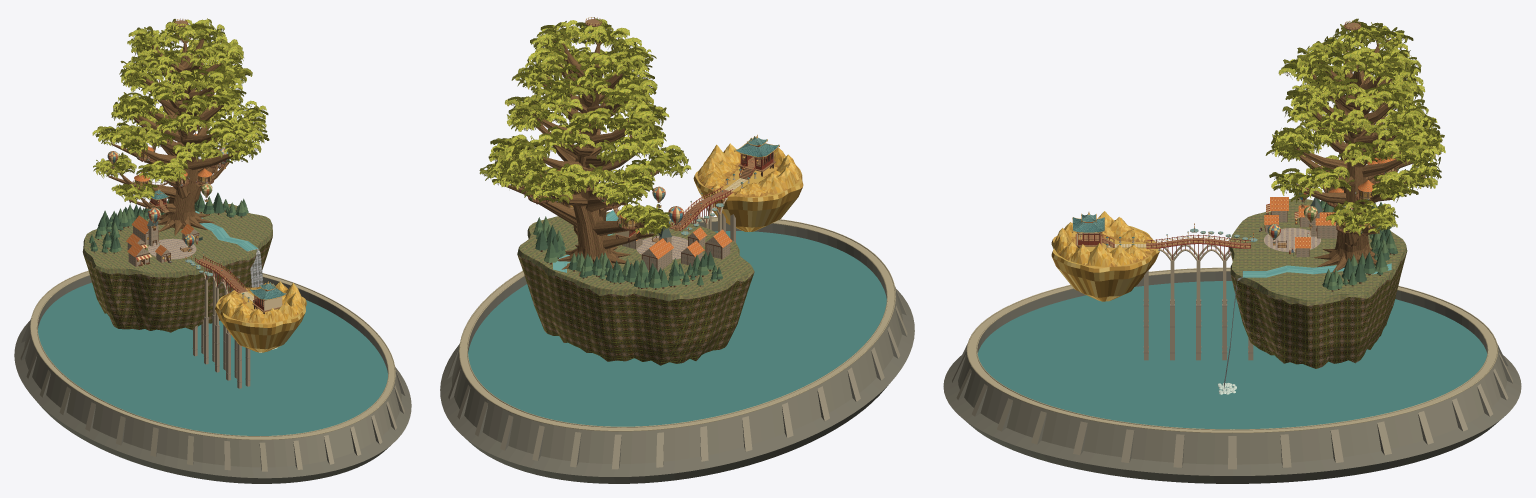
File: Ambrogio.glb
3 views of the same model, side by side, from view 1: azimuth 30°, elevation 25°; view 2: azimuth 150°, elevation 25°; view 3: azimuth 270°, elevation 25° (orthographic). The views are drawn at different scales.
Visible parts, largest first — view 1: Reservoir water, Reservoir dam, Oak crown, Cliff and falls, Ancient oak, Golden island, Forest, Lantern bridge foundations, Gilded mountain ridges, Bridge of lotus lanterns, Golden island sanctuary, Cobbled market square (+1 smaller); view 2: Reservoir water, Reservoir dam, Oak crown, Cliff and falls, Ancient oak, Forest, Golden island, Gilded mountain ridges, Golden island sanctuary, Bridge of lotus lanterns, Chapel, Tavern; view 3: Reservoir water, Reservoir dam, Oak crown, Cliff and falls, Ancient oak, Golden island, Gilded mountain ridges, Bridge of lotus lanterns, Forest, Lantern bridge foundations, Golden island sanctuary, Cobbled market square (+1 smaller).
Boxes of the visible parts, x1=… form: Reservoir water: x1=38, y1=282, x2=387, y2=435; Reservoir dam: x1=14, y1=270, x2=411, y2=483; Oak crown: x1=111, y1=18, x2=269, y2=183; Cliff and falls: x1=82, y1=204, x2=277, y2=352; Ancient oak: x1=92, y1=67, x2=240, y2=235; Golden island: x1=215, y1=287, x2=306, y2=352; Forest: x1=89, y1=192, x2=248, y2=253; Lantern bridge foundations: x1=192, y1=314, x2=250, y2=388; Gilded mountain ridges: x1=218, y1=281, x2=304, y2=323; Bridge of lotus lanterns: x1=194, y1=252, x2=247, y2=333; Golden island sanctuary: x1=249, y1=281, x2=287, y2=313; Cobbled market square: x1=148, y1=238, x2=196, y2=259; Reservoir water: x1=468, y1=231, x2=886, y2=426; Reservoir dam: x1=440, y1=217, x2=914, y2=483; Oak crown: x1=488, y1=18, x2=691, y2=206; Cliff and falls: x1=517, y1=210, x2=754, y2=365; Ancient oak: x1=479, y1=88, x2=671, y2=275; Forest: x1=533, y1=216, x2=722, y2=289; Golden island: x1=693, y1=161, x2=803, y2=231; Gilded mountain ridges: x1=697, y1=143, x2=800, y2=197; Golden island sanctuary: x1=734, y1=134, x2=779, y2=179; Bridge of lotus lanterns: x1=669, y1=186, x2=733, y2=232; Chapel: x1=641, y1=227, x2=673, y2=271; Tavern: x1=705, y1=229, x2=732, y2=259; Reservoir water: x1=977, y1=281, x2=1487, y2=429; Reservoir dam: x1=943, y1=267, x2=1521, y2=483; Oak crown: x1=1265, y1=18, x2=1444, y2=225; Cliff and falls: x1=1217, y1=198, x2=1407, y2=394; Ancient oak: x1=1307, y1=112, x2=1445, y2=273; Golden island: x1=1051, y1=225, x2=1160, y2=301; Gilded mountain ridges: x1=1054, y1=211, x2=1153, y2=266; Bridge of lotus lanterns: x1=1146, y1=231, x2=1251, y2=305; Forest: x1=1314, y1=197, x2=1397, y2=291; Lantern bridge foundations: x1=1143, y1=270, x2=1253, y2=360; Golden island sanctuary: x1=1072, y1=212, x2=1114, y2=247; Cobbled market square: x1=1264, y1=228, x2=1321, y2=252.
Size of the model in its own units: 163 by 164 by 221.
13 materials, 11 textured.
